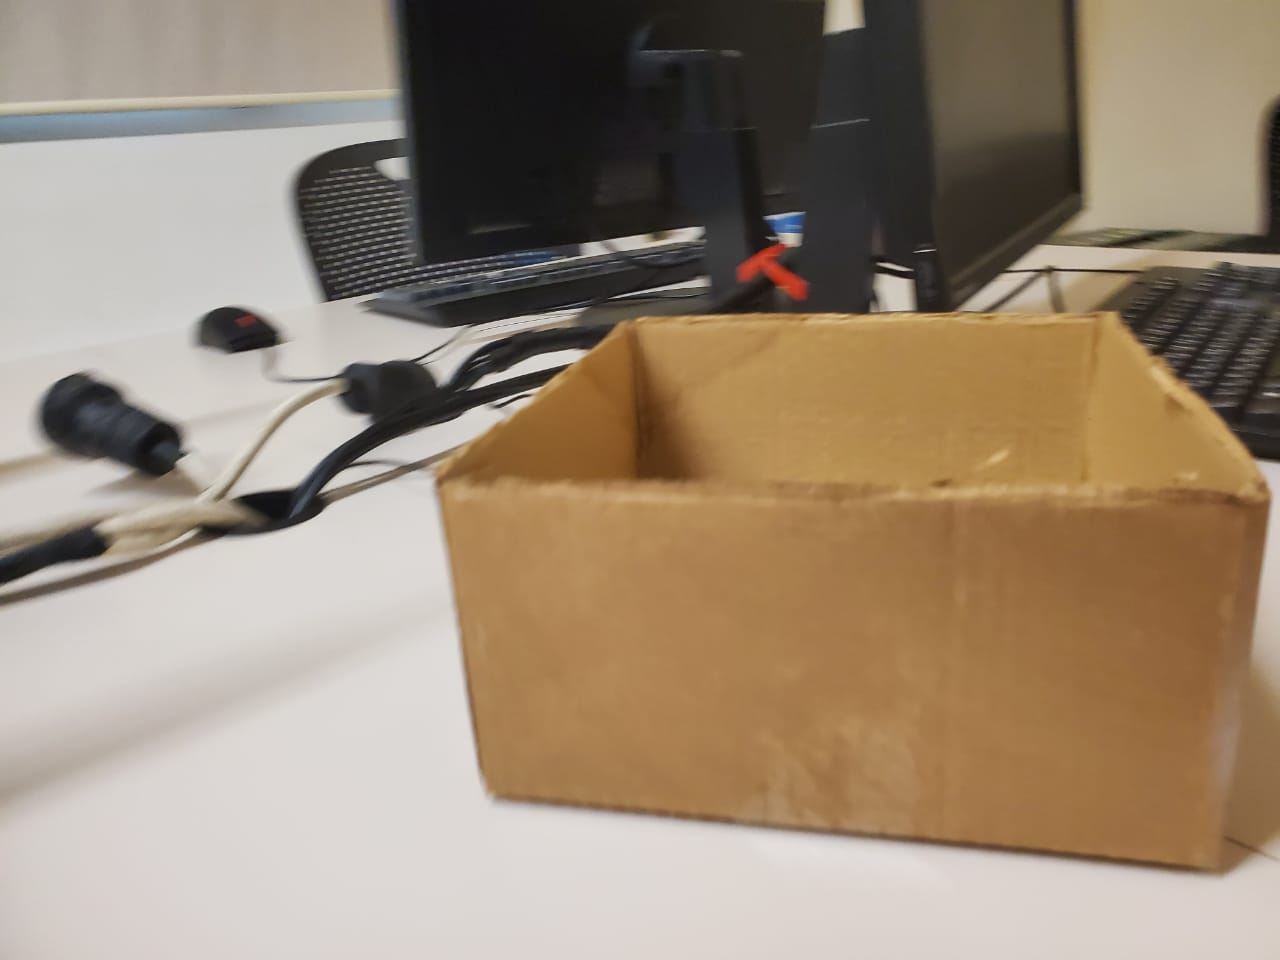CBox: (438, 306, 1276, 878)
